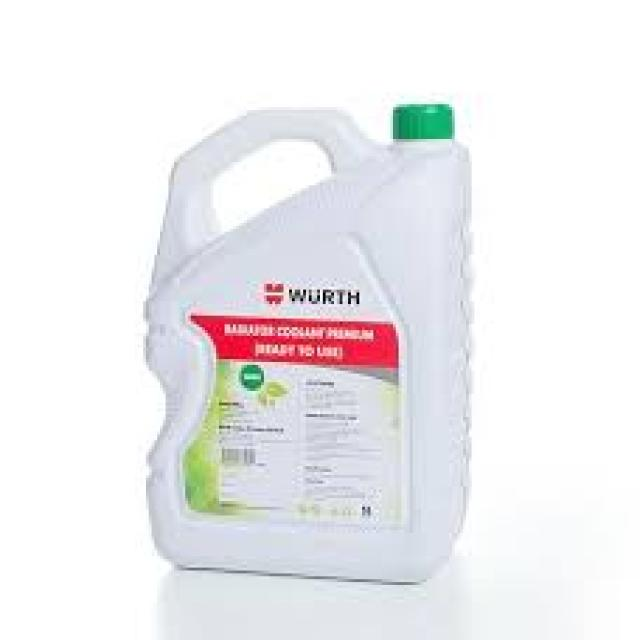coolant: (138, 85, 480, 593)
